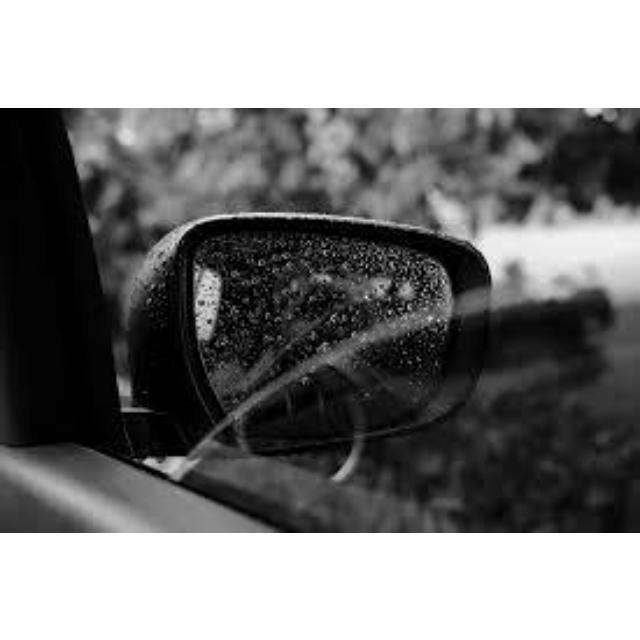Sidemirror-Damage: (119, 201, 507, 470)
